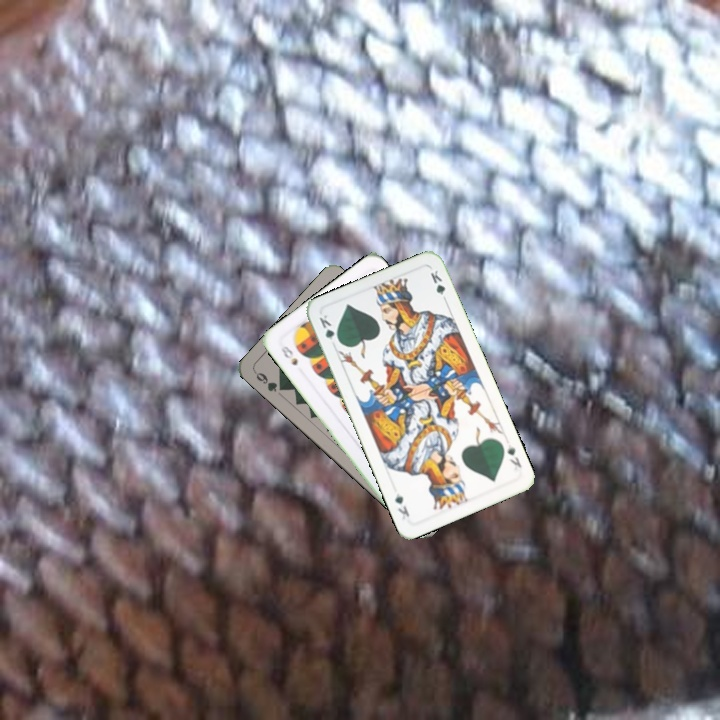G9: (250, 368, 288, 395)
GK: (315, 311, 343, 350), (503, 440, 524, 470)
S8: (277, 342, 300, 368)
